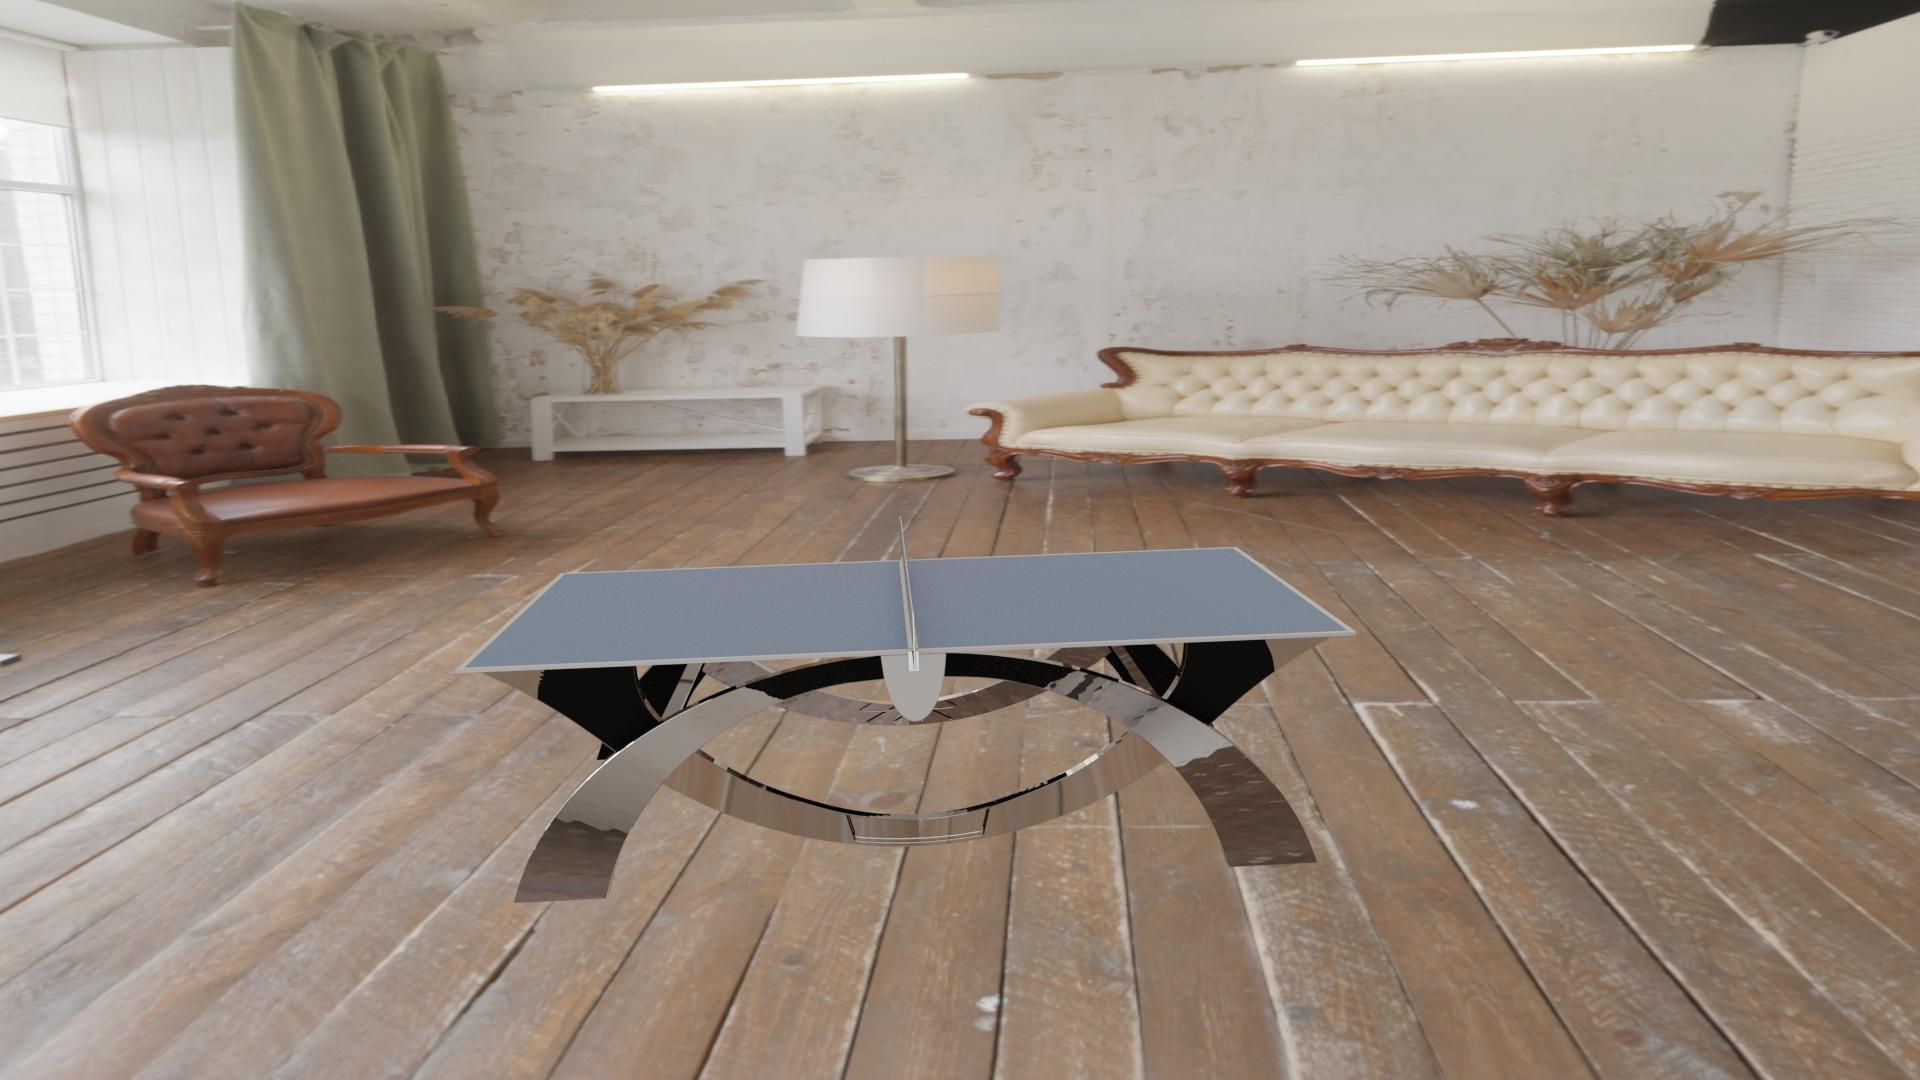table: (464, 549, 1348, 667)
